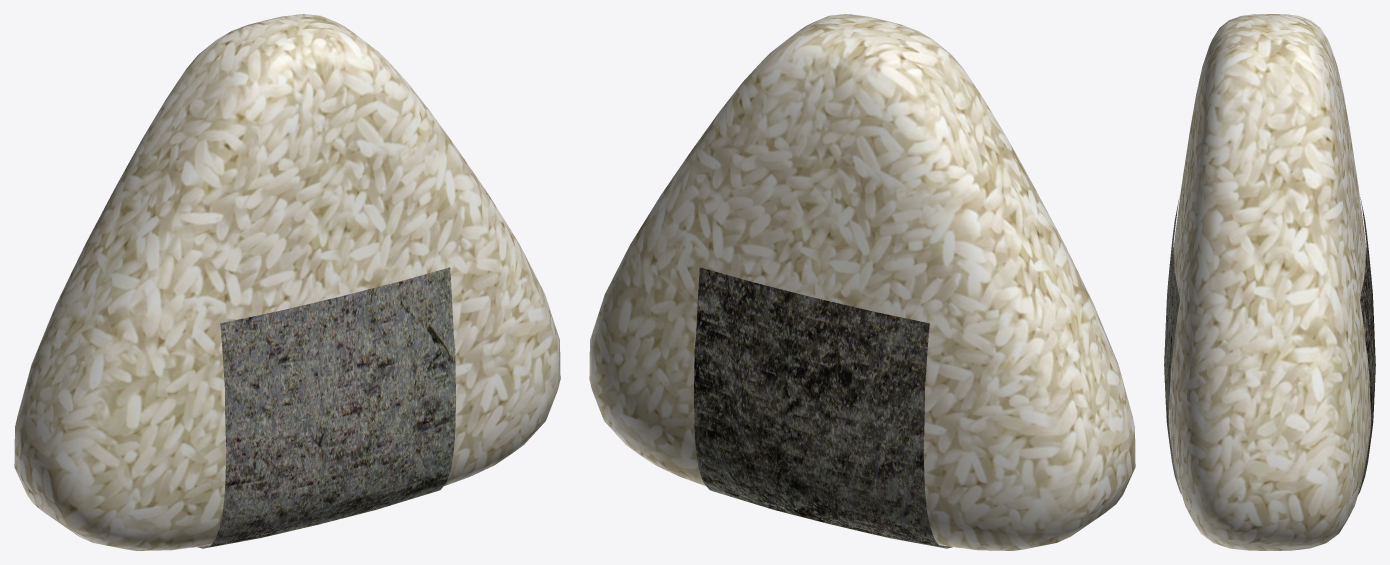
The model's file is onigiri.glb.
3 renders of one model, left to right at view 1: azimuth 30°, elevation 25°; view 2: azimuth 150°, elevation 25°; view 3: azimuth 270°, elevation 25°, orthographic. The views are drawn at different scales.
Visible parts, largest first — view 1: Cube, Plane; view 2: Cube, Plane; view 3: Cube, Plane.
Part boxes in pixels (left/top/right/bottom): Cube: left=14, top=14, right=560, bottom=550; Plane: left=197, top=267, right=455, bottom=548; Cube: left=589, top=14, right=1135, bottom=550; Plane: left=694, top=267, right=952, bottom=548; Cube: left=1168, top=14, right=1371, bottom=550; Plane: left=1164, top=197, right=1375, bottom=494.
Size of the model in its own units: 0.0239 by 0.0215 by 0.0091.
Materials: 2 (2 with a texture image).
